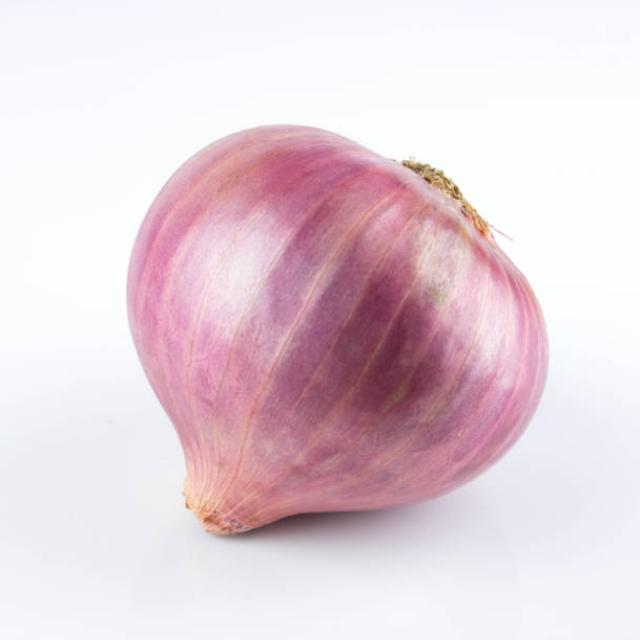onion: (120, 115, 550, 553)
